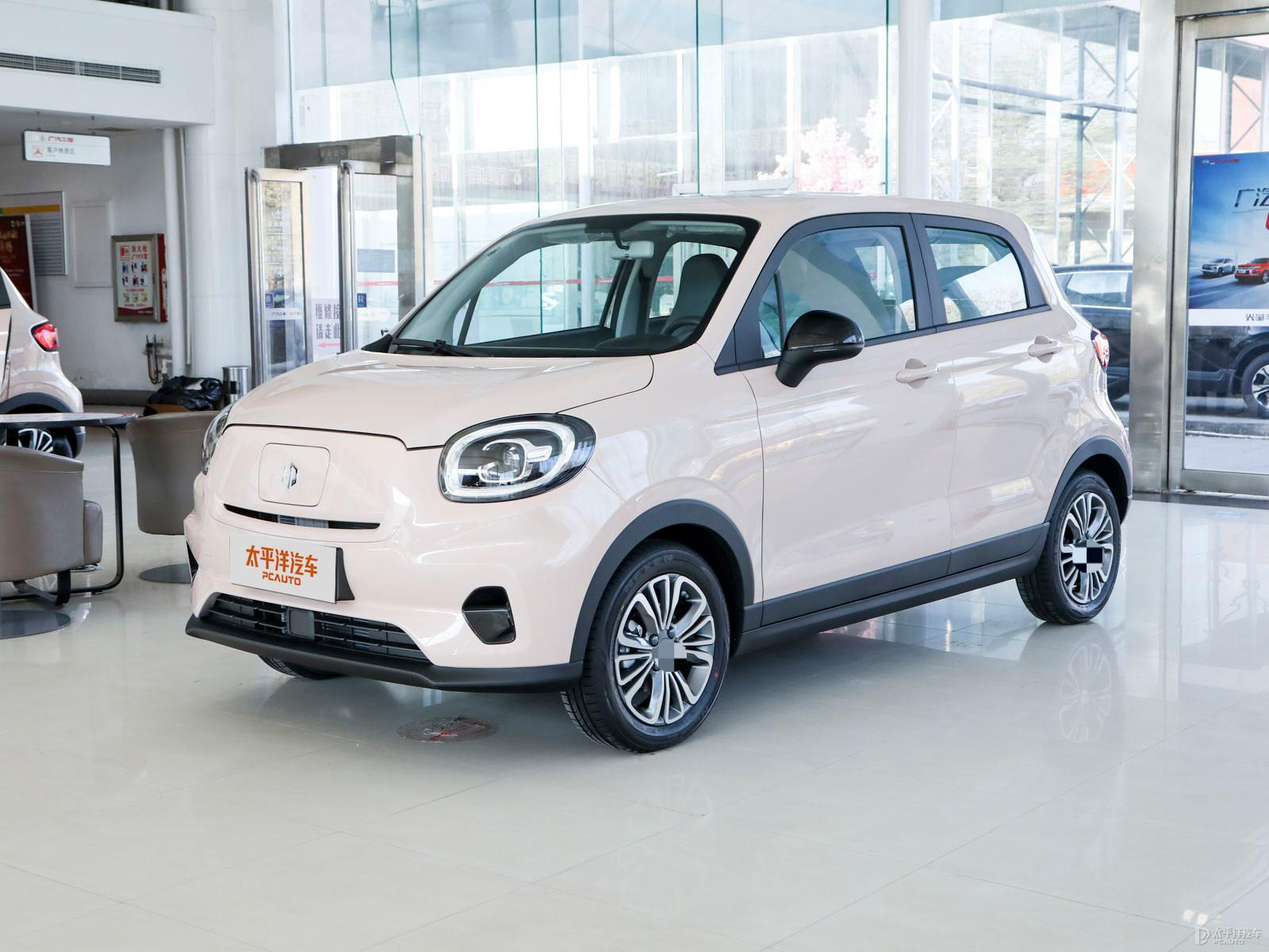LEAPMOTOR: (280, 463, 299, 490)
